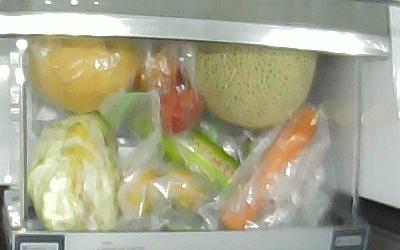cabbage_vinyl: (27, 113, 120, 231)
carrot_vinyl: (217, 105, 316, 232)
melon: (194, 44, 317, 128)
pear_vinyl: (28, 37, 137, 114)
prune_vinyl: (134, 52, 182, 100), (159, 86, 204, 134)
tangerine_vinyl: (168, 169, 204, 210), (127, 170, 157, 212)
zucchini_vinyl: (133, 110, 241, 196)
